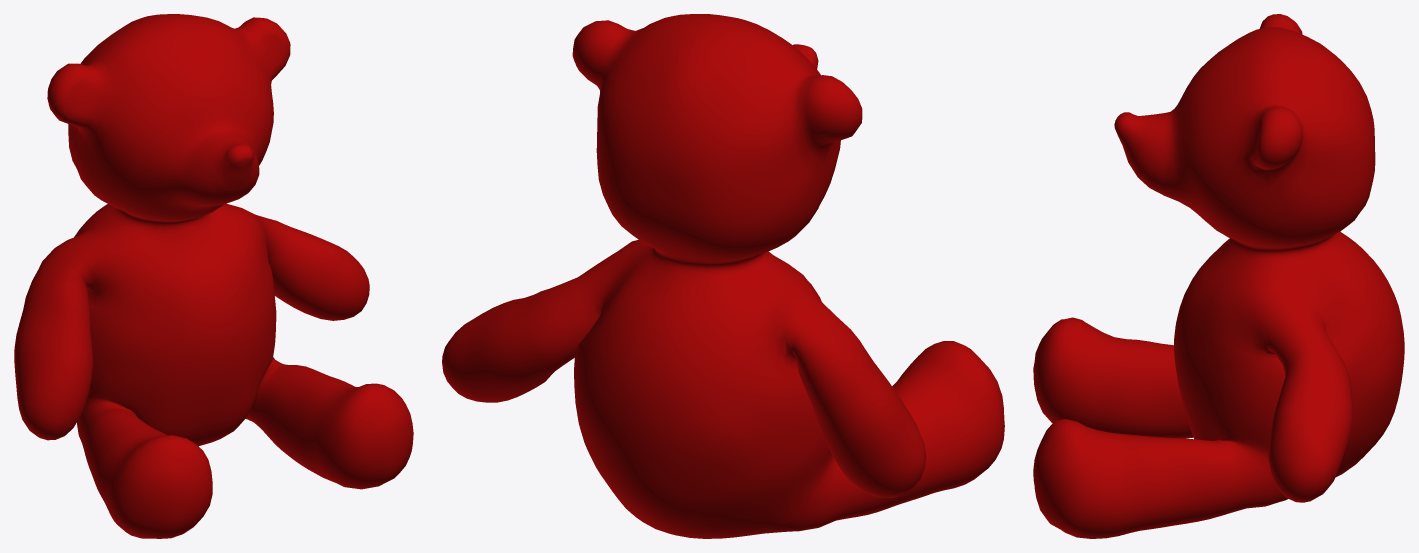
The model's file is oso_abrazo2.glb.
The picture shows the model from 3 angles, left to right: view 1: azimuth 30°, elevation 25°; view 2: azimuth 150°, elevation 25°; view 3: azimuth 270°, elevation 25°; orthographic projection. The views are drawn at different scales.
Parts seen in each view (by area): view 1: Oso_Abrazando2:Group42068; view 2: Oso_Abrazando2:Group42068; view 3: Oso_Abrazando2:Group42068.
Boxes of the visible parts, <box> form: Oso_Abrazando2:Group42068: <box>14,14,413,538</box>; Oso_Abrazando2:Group42068: <box>442,14,1004,538</box>; Oso_Abrazando2:Group42068: <box>1033,14,1404,538</box>.
Size of the model in its own units: 4.66 by 5.07 by 3.87.
